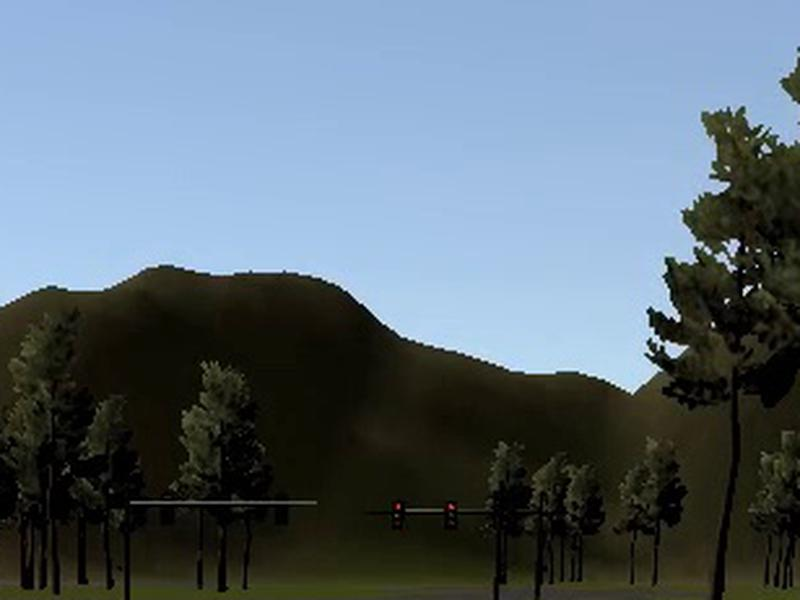Red: (442, 499, 456, 529), (390, 500, 404, 529)
